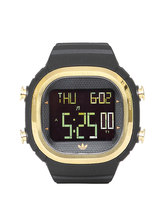watch: (18, 35, 148, 191)
